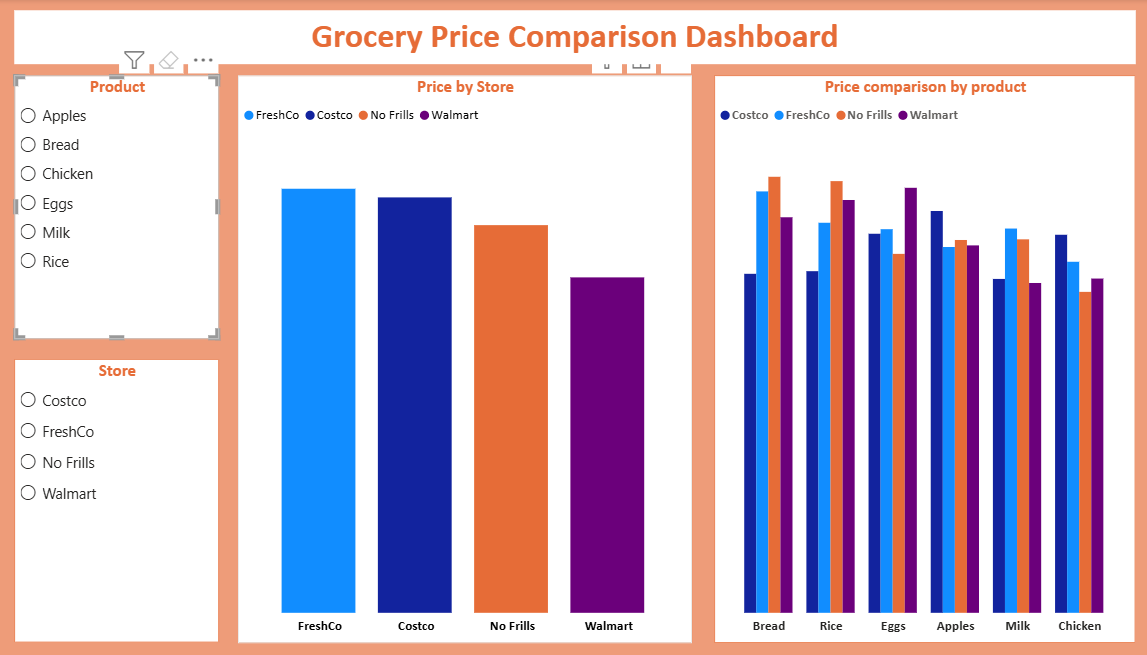

What the dashboard file says about the page in this screenshot:
{"tool":"powerbi","page":{"name":"Grocery Price Comparison Dashboard","canvas":[1280,720],"ordinal":0},"visuals":[{"type":"columnChart","title":"Price by Store","fields":{"Category":["Grocery_dataset.Store_Name"],"Y":["Sum(Grocery_dataset.Price)"],"Series":["Grocery_dataset.Store_Name"]},"box":[269,83.7,498.1,623],"z":0},{"type":"clusteredColumnChart","title":"Price comparison by product","fields":{"Category":["Grocery_dataset.Product"],"Y":["Avg(Grocery_dataset.Price)"],"Series":["Grocery_dataset.Store_Name"]},"box":[791.8,83.7,462.4,623],"z":1000},{"type":"listSlicer","fields":{"Values":["Grocery_dataset.Product"]},"box":[23.3,83.7,225,289.5],"z":2000},{"type":"listSlicer","title":"Store","fields":{"Values":["Grocery_dataset.Store_Name"]},"box":[23.3,395.2,225,311.5],"z":3000},{"type":"textbox","box":[23.3,12.3,1230.9,59],"z":4000}]}

Visuals, with their boxes on the page's 1280x720 design canvas (x1, y1, x2, y2). These are canvas units, not pixel positions in the 1147x655 screenshot, which may show the page scaled, cropped or inside an application window:
"Price by Store" columnChart: region(269, 84, 767, 707)
"Price comparison by product" clusteredColumnChart: region(792, 84, 1254, 707)
listSlicer - Grocery_dataset.Product: region(23, 84, 248, 373)
"Store" listSlicer: region(23, 395, 248, 707)
textbox: region(23, 12, 1254, 71)
